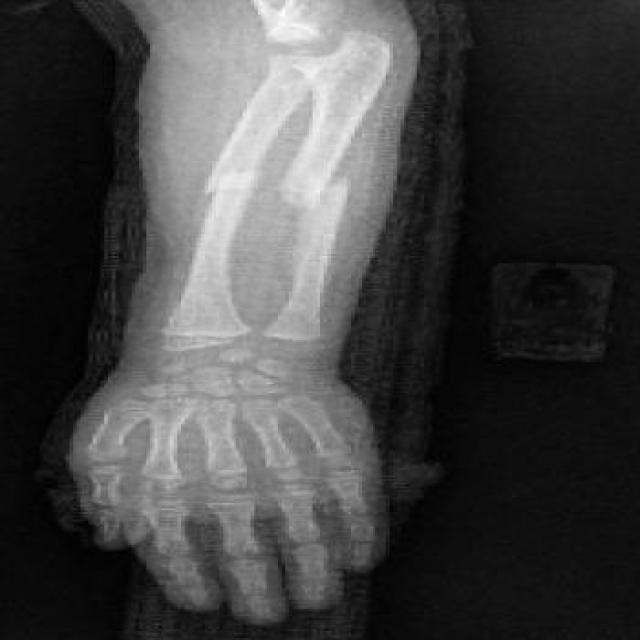Fracture: (276, 174, 375, 209), (194, 177, 261, 205)
